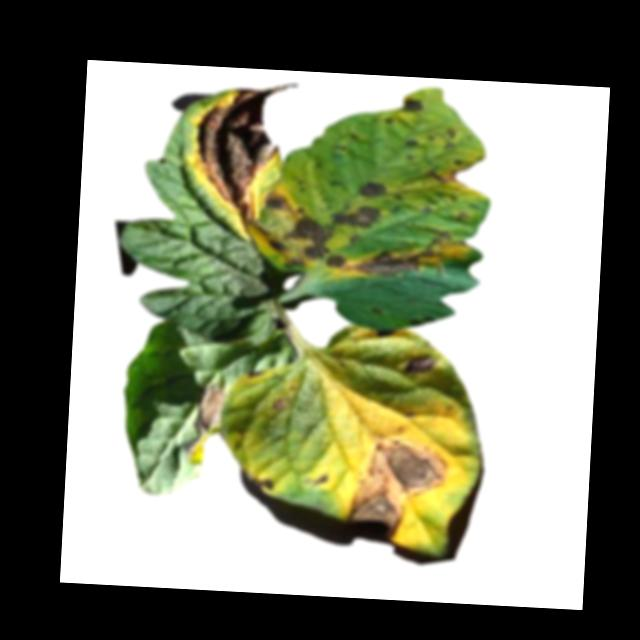Early_blight: (185, 74, 300, 222), (343, 429, 458, 541), (352, 227, 467, 282), (266, 207, 330, 272), (188, 380, 226, 467), (402, 349, 440, 383), (334, 201, 380, 226), (243, 465, 279, 490), (358, 175, 387, 200), (395, 93, 427, 114), (427, 165, 457, 184), (326, 249, 347, 272), (270, 394, 292, 411), (443, 126, 458, 150), (312, 471, 331, 486), (407, 135, 420, 148)
